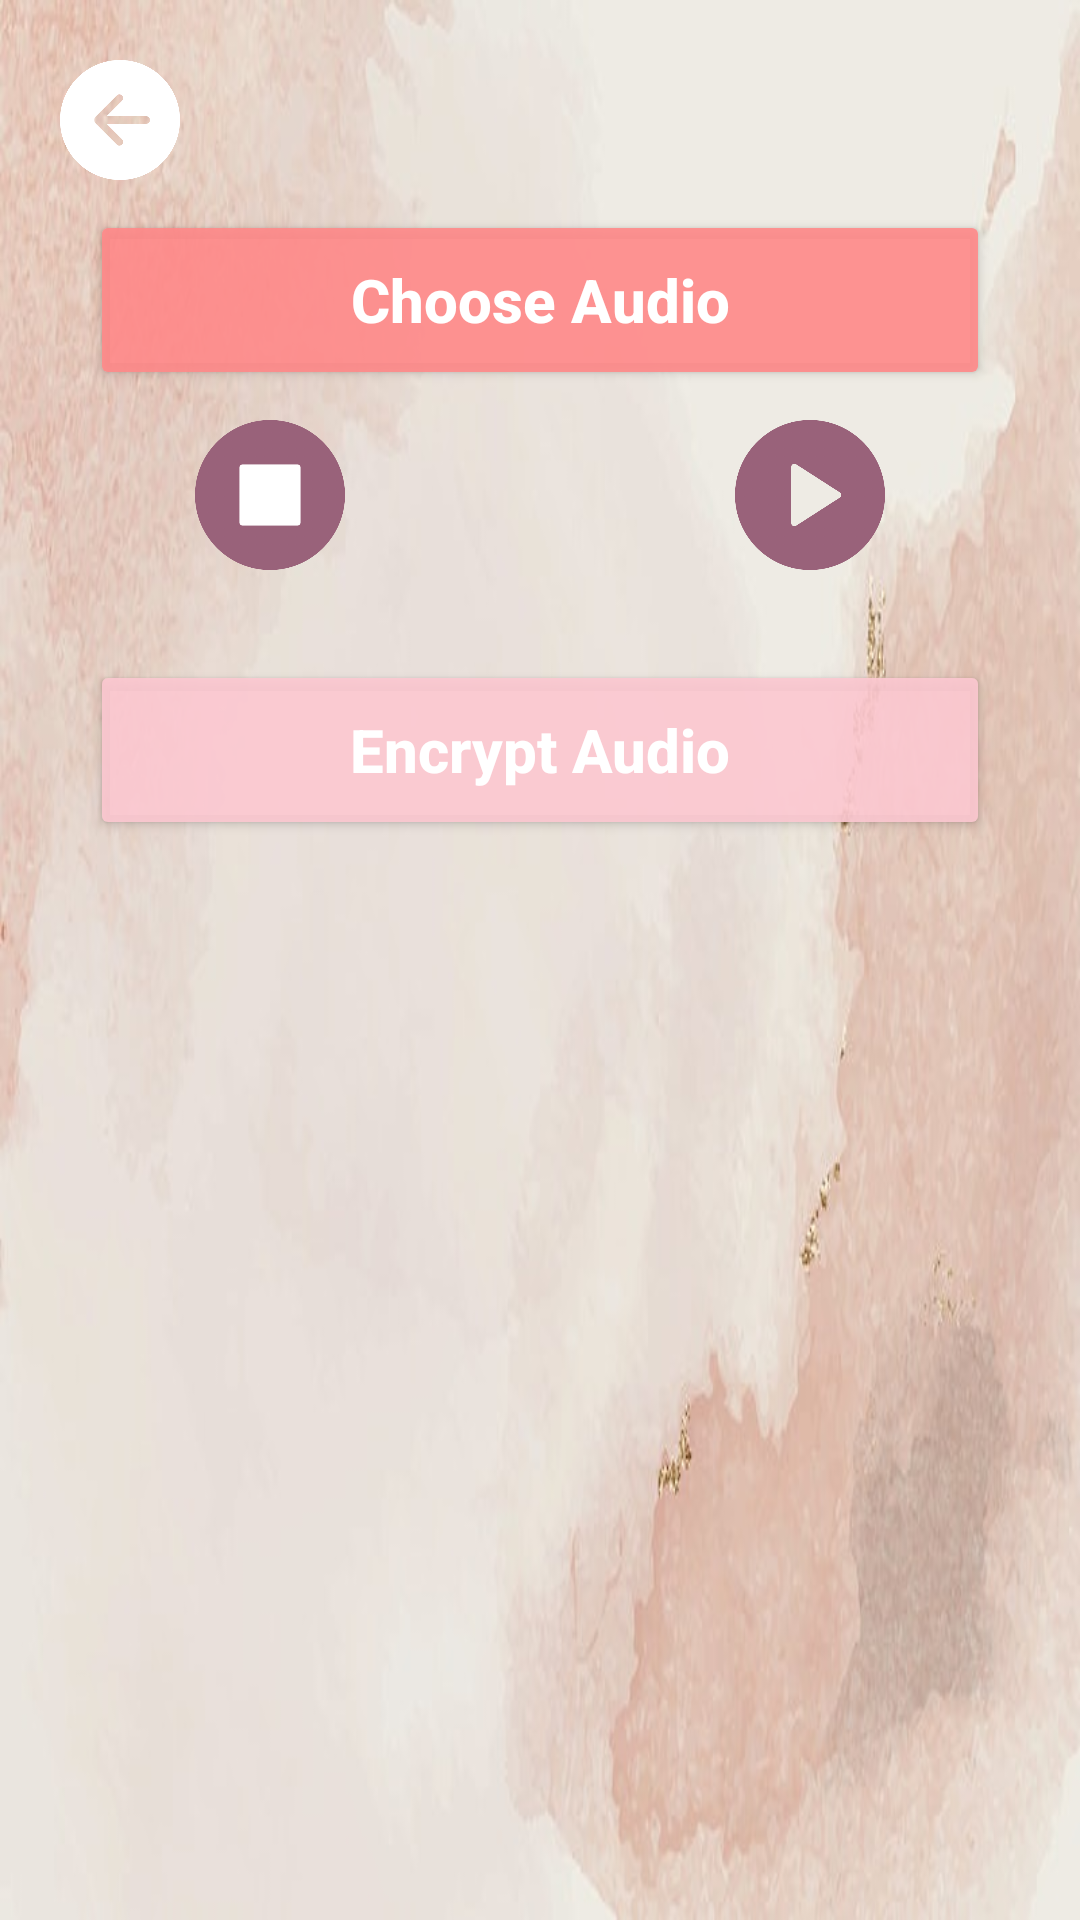

Screen size 1080w x 1920h. Icon name, then its box in pixels as (x1, y1, x2, y2):
back: (60, 60, 180, 180)
